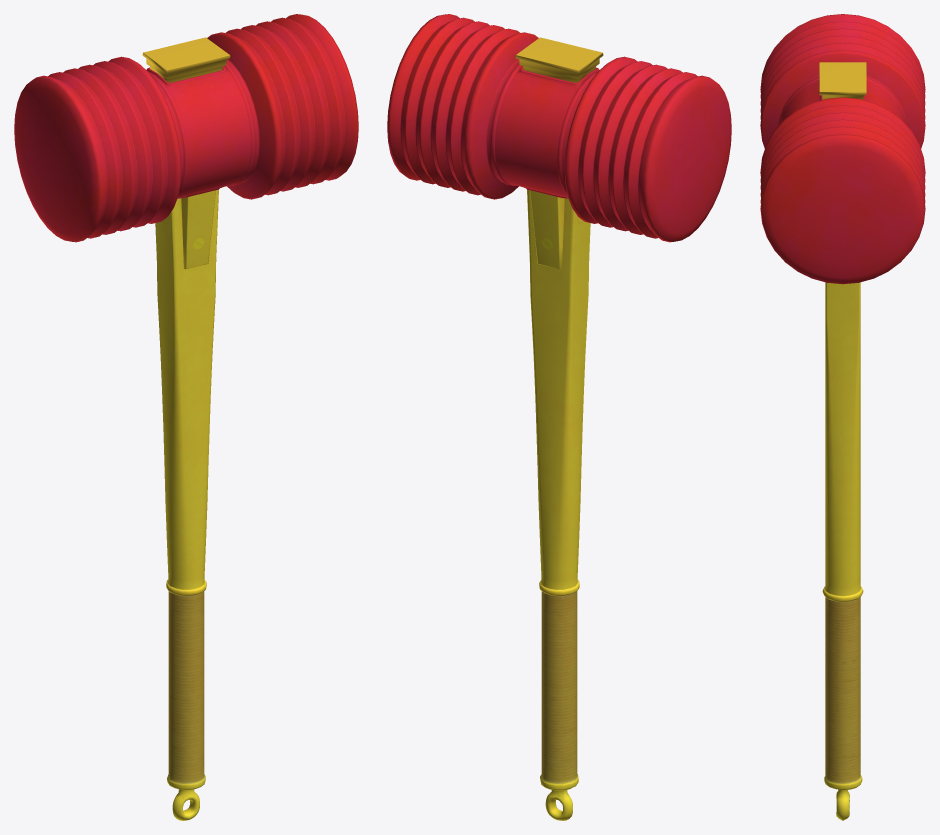
The model's file is Xammer_Toy.fbx.
The picture shows the model from 3 angles, left to right: view 1: azimuth 30°, elevation 25°; view 2: azimuth 150°, elevation 25°; view 3: azimuth 270°, elevation 25°; orthographic projection. The views are drawn at different scales.
Parts seen in each view (by area): view 1: head_low; view 2: head_low; view 3: head_low.
Boxes of the visible parts, <box> form: head_low: <box>14,14,358,820</box>; head_low: <box>387,14,731,820</box>; head_low: <box>760,14,925,820</box>.
Bounding box in the file's own units: 93.59 × 249 × 50.
